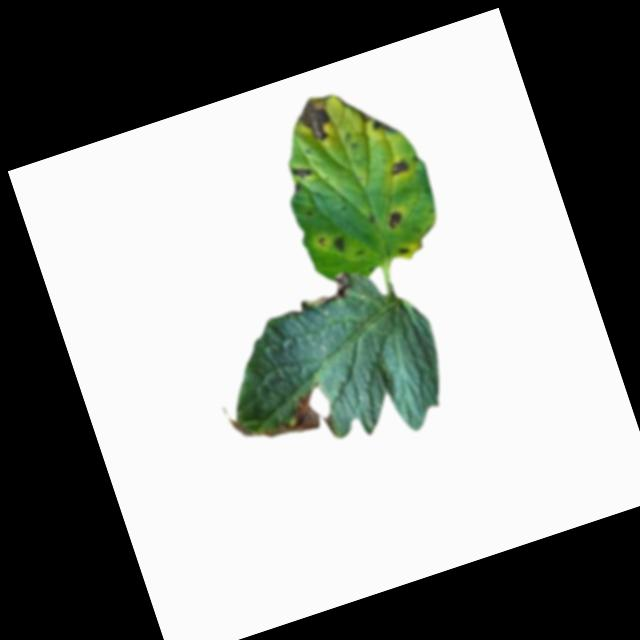Early_blight: (214, 373, 339, 465), (291, 89, 346, 148), (301, 269, 356, 314), (370, 113, 398, 138), (288, 161, 316, 181), (383, 207, 405, 231), (386, 156, 409, 177), (328, 233, 347, 255), (395, 242, 411, 255)
